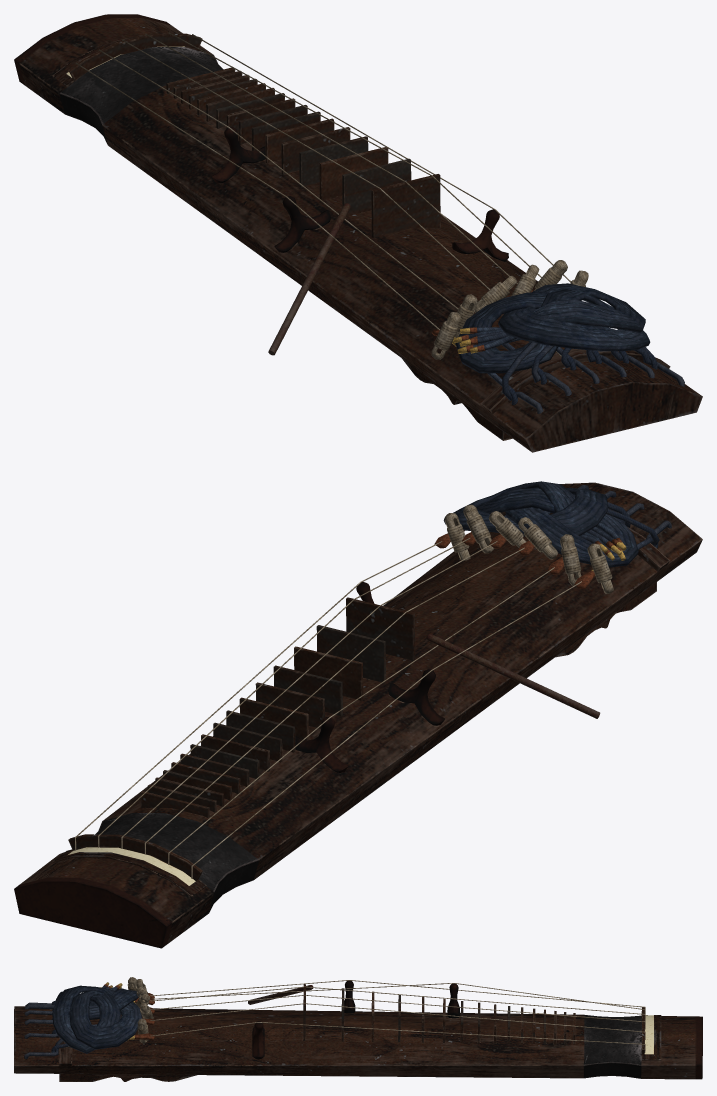
The model's file is SM_Geomungo.fbx.
3 views of the same model, one above another, from view 1: azimuth 30°, elevation 25°; view 2: azimuth 150°, elevation 25°; view 3: azimuth 270°, elevation 25° (orthographic). The views are drawn at different scales.
Parts seen in each view (by area): view 1: SM_Geomungo; view 2: SM_Geomungo; view 3: SM_Geomungo.
Part boxes in pixels (left/top/right/bottom): SM_Geomungo: left=14, top=14, right=702, bottom=452; SM_Geomungo: left=14, top=481, right=702, bottom=948; SM_Geomungo: left=14, top=977, right=702, bottom=1081.
Bounding box in the file's own units: 46.33 × 163 × 17.96.
Materials: 1 (1 with a texture image).
